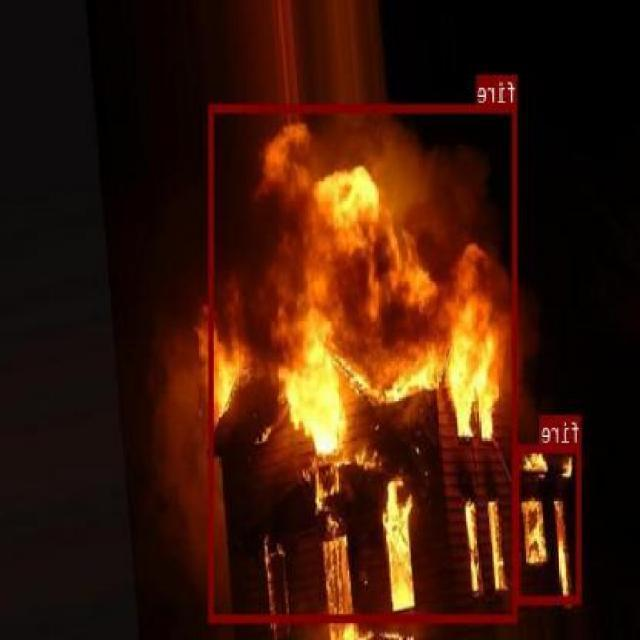Fire: (210, 102, 518, 622), (516, 443, 582, 603)
